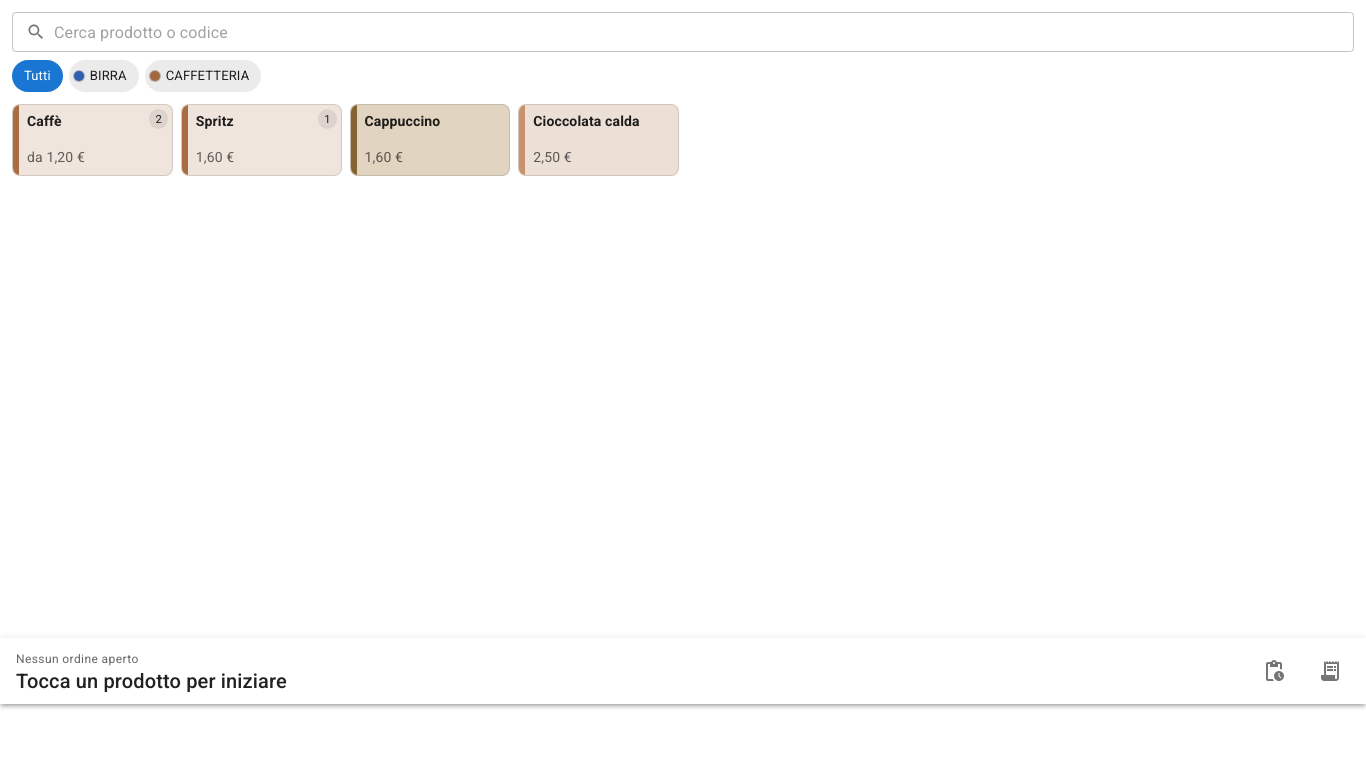
it: PuntoVendita › gruppi di prodotti › insieme al filtro per categoria › i gruppi senza membri di quella categoria spariscono col filtro
Expected: the text "Caffè" is shown, [27,113,62,130]
Step 1. Click the button "CAFFETTERIA" → (203, 76), box [145,60,261,92]
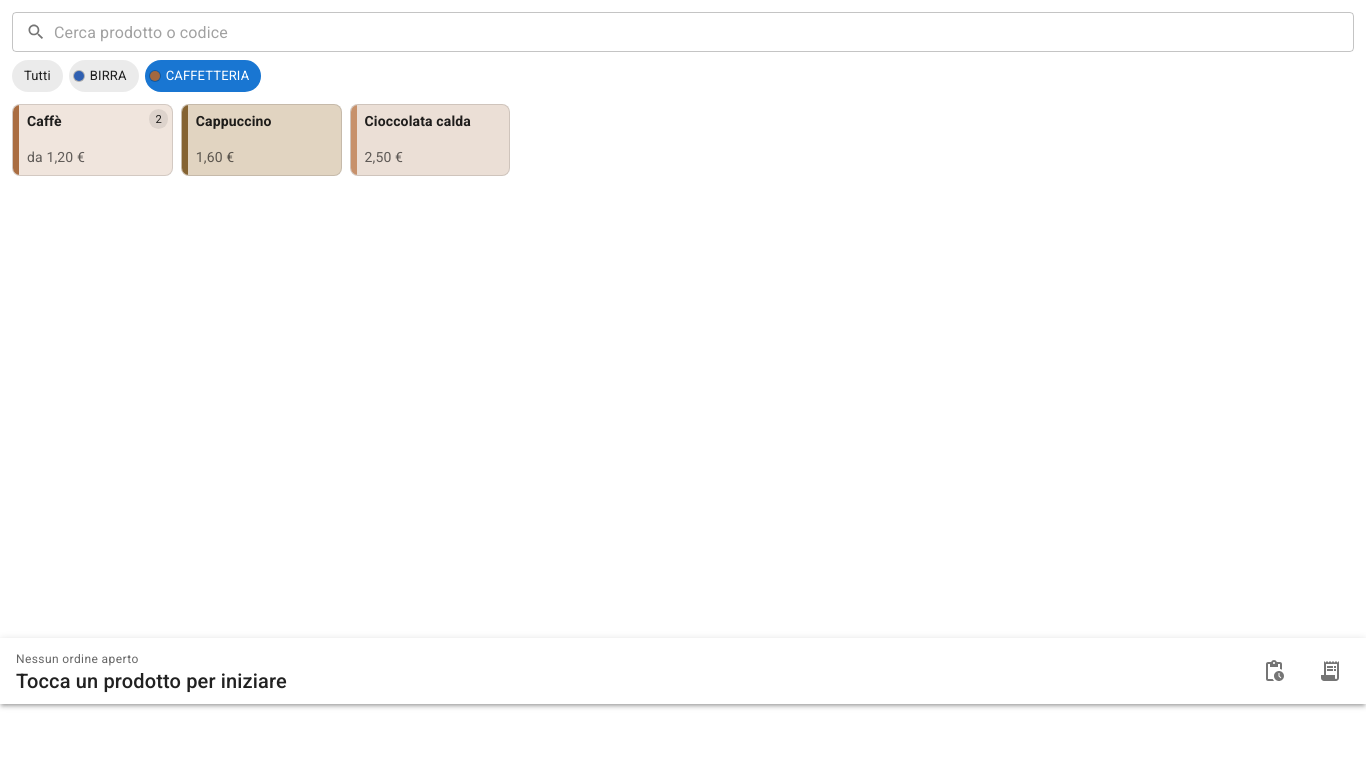
Expected: the text "Caffè" is shown, [27,113,62,130]
Result: the button "Spritz" is gone
